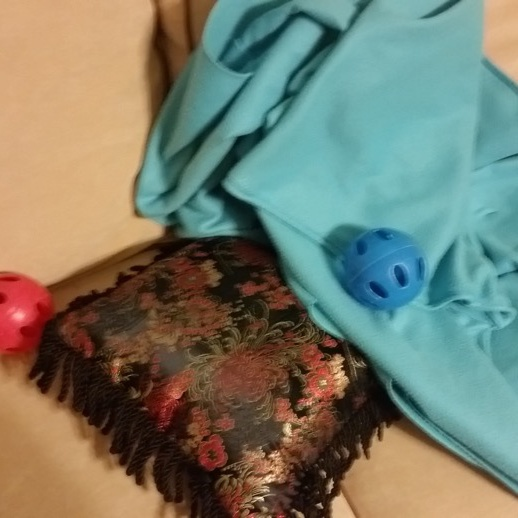ball: (333, 222, 433, 315), (0, 264, 60, 361)
